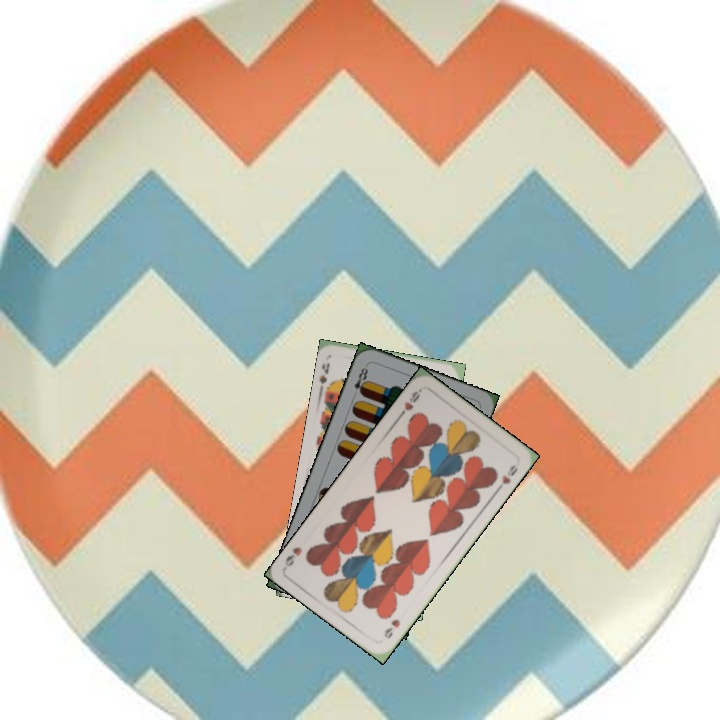E8: (349, 361, 371, 399)
H9: (395, 385, 424, 421), (380, 615, 403, 642)
S9: (315, 359, 336, 396)
